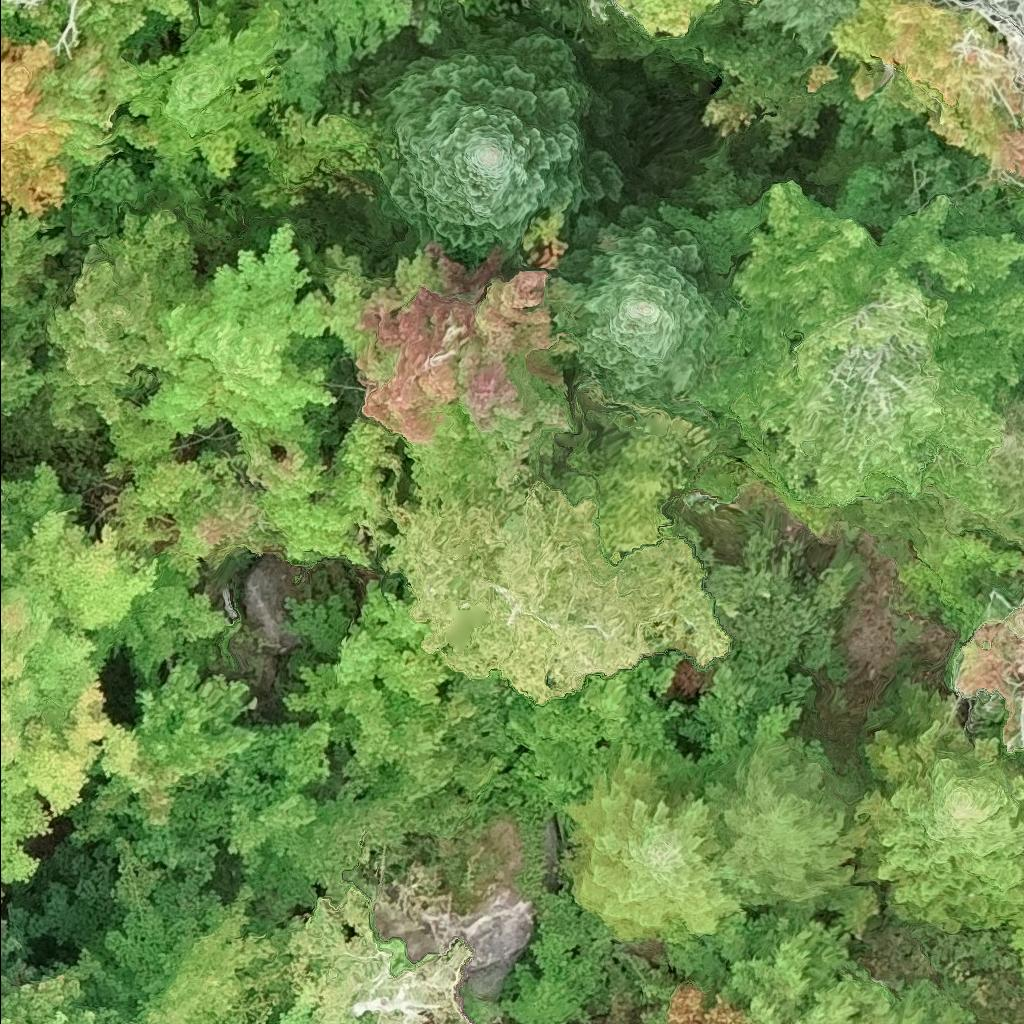crown: (650, 122, 1023, 537), (369, 402, 733, 701), (354, 2, 633, 266), (342, 205, 578, 496), (0, 460, 159, 889), (109, 218, 368, 458), (59, 659, 337, 869), (278, 576, 522, 797), (842, 679, 1023, 934), (809, 0, 1023, 192), (557, 204, 743, 414), (562, 746, 761, 940), (98, 0, 299, 185), (41, 205, 201, 437), (101, 438, 316, 582), (729, 920, 973, 1023), (664, 0, 828, 151), (712, 741, 858, 906), (261, 420, 402, 568), (100, 551, 242, 685), (133, 904, 282, 1023), (252, 70, 374, 207), (930, 380, 1023, 545), (282, 0, 411, 116), (0, 27, 70, 213), (45, 150, 165, 252), (35, 34, 119, 166), (0, 271, 66, 423), (737, 0, 859, 68), (0, 203, 71, 306), (88, 0, 192, 61), (0, 972, 100, 1023), (612, 0, 735, 40), (667, 981, 750, 1023), (271, 976, 319, 1023), (188, 0, 199, 5), (1020, 877, 1023, 891), (1021, 852, 1023, 872)
